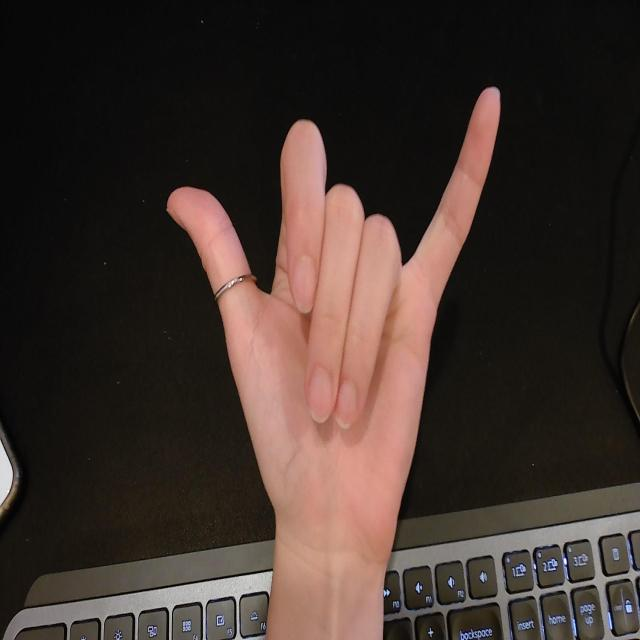Y: (163, 76, 511, 532)
